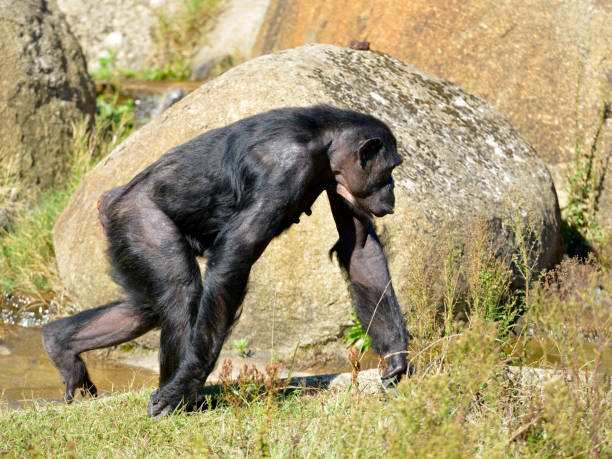chimpanzee: (323, 97, 406, 235)
